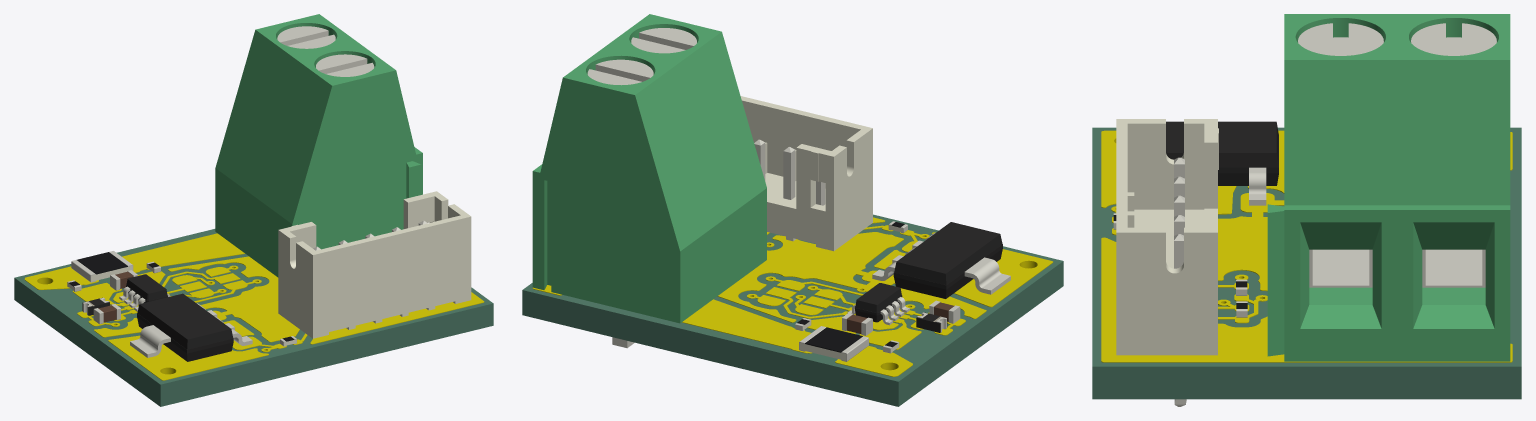
File: test_board.glb
3 views of the same model, side by side, from view 1: azimuth 30°, elevation 25°; view 2: azimuth 150°, elevation 25°; view 3: azimuth 270°, elevation 25° (orthographic). The views are drawn at different scales.
Parts seen in each view (by area): view 1: =>[0:1:1:9], =>[0:1:1:11], =>[0:1:1:216], =>[0:1:1:116], =>[0:1:1:15], =>[0:1:1:114], =>[0:1:1:118], =>[0:1:1:3], =>[0:1:1:7], =>[0:1:1:112], =>[0:1:1:113], =>[0:1:1:13]; view 2: =>[0:1:1:9], =>[0:1:1:216], =>[0:1:1:11], =>[0:1:1:116], =>[0:1:1:15], =>[0:1:1:118], =>[0:1:1:3], =>[0:1:1:7], =>[0:1:1:114], =>[0:1:1:112], =>[0:1:1:13] (×2), =>[0:1:1:113] (+3 smaller); view 3: =>[0:1:1:9], =>[0:1:1:216], =>[0:1:1:11], =>[0:1:1:116], =>[0:1:1:15], =>[0:1:1:114].
Boxes of the visible parts, bbox=[...] form: =>[0:1:1:9]: bbox=[215, 14, 422, 277]; =>[0:1:1:11]: bbox=[278, 191, 471, 338]; =>[0:1:1:216]: bbox=[14, 229, 493, 406]; =>[0:1:1:116]: bbox=[94, 256, 484, 344]; =>[0:1:1:15]: bbox=[130, 293, 252, 361]; =>[0:1:1:114]: bbox=[108, 320, 268, 380]; =>[0:1:1:118]: bbox=[122, 233, 245, 270]; =>[0:1:1:3]: bbox=[71, 251, 133, 282]; =>[0:1:1:7]: bbox=[119, 274, 170, 311]; =>[0:1:1:112]: bbox=[25, 266, 97, 289]; =>[0:1:1:113]: bbox=[72, 282, 118, 304]; =>[0:1:1:13]: bbox=[93, 304, 120, 324]; =>[0:1:1:9]: bbox=[532, 14, 766, 348]; =>[0:1:1:216]: bbox=[522, 214, 1063, 406]; =>[0:1:1:11]: bbox=[740, 96, 872, 251]; =>[0:1:1:116]: bbox=[532, 217, 986, 322]; =>[0:1:1:15]: bbox=[872, 222, 1010, 298]; =>[0:1:1:118]: bbox=[682, 299, 812, 353]; =>[0:1:1:3]: bbox=[799, 326, 868, 361]; =>[0:1:1:7]: bbox=[847, 283, 909, 325]; =>[0:1:1:114]: bbox=[874, 232, 1053, 307]; =>[0:1:1:112]: bbox=[835, 346, 911, 376]; =>[0:1:1:13] (×2): bbox=[842, 300, 960, 335]; =>[0:1:1:113]: bbox=[860, 325, 921, 349]; =>[0:1:1:9]: bbox=[1267, 14, 1510, 361]; =>[0:1:1:216]: bbox=[1092, 127, 1521, 399]; =>[0:1:1:11]: bbox=[1116, 119, 1218, 406]; =>[0:1:1:116]: bbox=[1101, 130, 1512, 362]; =>[0:1:1:15]: bbox=[1166, 121, 1278, 205]; =>[0:1:1:114]: bbox=[1101, 130, 1236, 214].
Size of the model in its own units: 0.025 by 0.0173 by 0.019.
